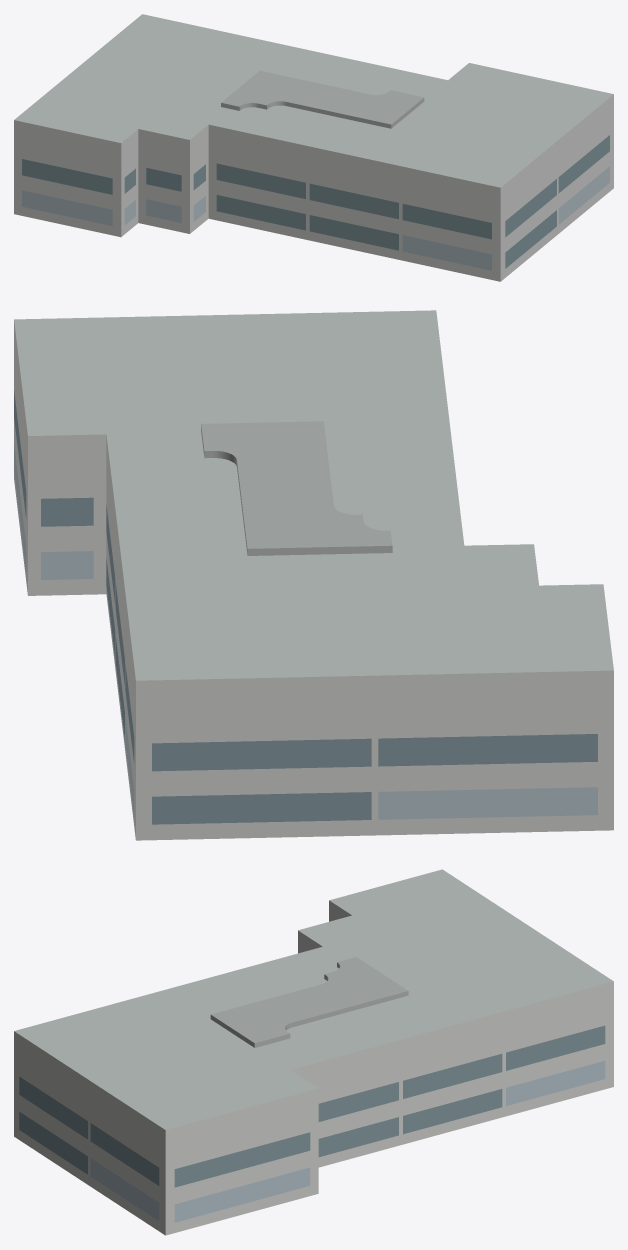
The model's file is named-apt-7145bb52-c776-4d41-b964-cc93f00aec23.glb.
3 renders of one model, top to bottom at view 1: azimuth 30°, elevation 25°; view 2: azimuth 150°, elevation 25°; view 3: azimuth 270°, elevation 25°, orthographic. The views are drawn at different scales.
Visible parts, largest first — view 1: named-apt-7145bb52-c776-4d41-b964-cc93f00aec23; view 2: named-apt-7145bb52-c776-4d41-b964-cc93f00aec23; view 3: named-apt-7145bb52-c776-4d41-b964-cc93f00aec23.
Part boxes in pixels (x1,y1,x2,y2): named-apt-7145bb52-c776-4d41-b964-cc93f00aec23: [14, 14, 613, 281]; named-apt-7145bb52-c776-4d41-b964-cc93f00aec23: [14, 310, 613, 840]; named-apt-7145bb52-c776-4d41-b964-cc93f00aec23: [14, 869, 613, 1235].
Size of the model in its own units: 48.49 by 9.56 by 47.15.
